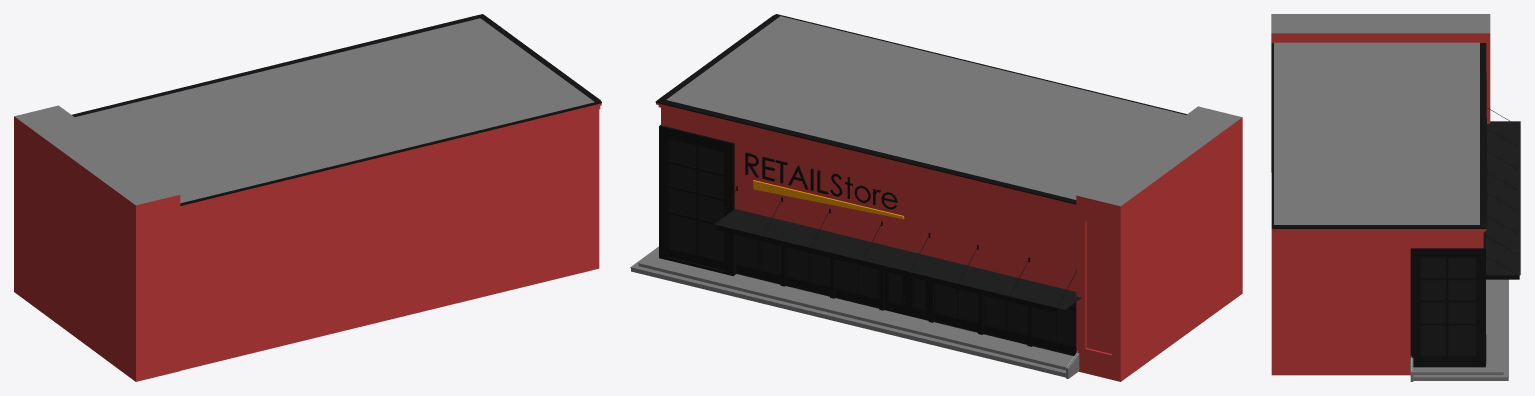
Rendered from RetailStore_fbx.FBX.
The picture shows the model from 3 angles, left to right: view 1: azimuth 30°, elevation 25°; view 2: azimuth 150°, elevation 25°; view 3: azimuth 270°, elevation 25°; orthographic projection. The views are drawn at different scales.
Visible parts, largest first — view 1: Box061; view 2: Box061, Box080, Ground, Box107, Line020, Object007, Line013; view 3: Box061, Box080, Box107, Ground, Line020.
Boxes of the visible parts, x1,y1,x2,y2 form: Box061: (14,14,601,381); Box061: (655,14,1242,381); Box080: (659,125,1076,355); Ground: (630,246,1079,378); Box107: (714,209,1081,309); Line020: (716,186,1076,312); Object007: (745,152,897,209); Line013: (753,180,904,219); Box061: (1271,14,1490,375); Box080: (1410,230,1486,367); Box107: (1486,121,1520,275); Ground: (1410,279,1508,381); Line020: (1486,107,1519,279).
Size of the model in its own units: 1206 by 422 by 601.
